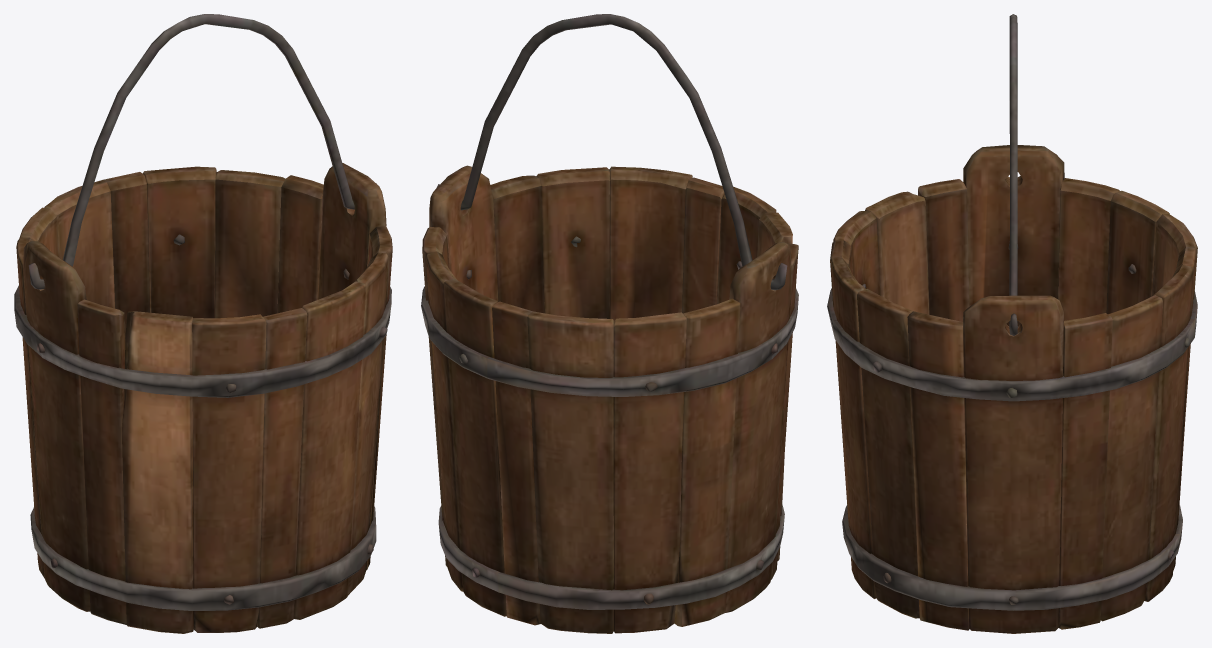
The model's file is wooden_bucket_01.glb.
3 renders of one model, left to right at view 1: azimuth 30°, elevation 25°; view 2: azimuth 150°, elevation 25°; view 3: azimuth 270°, elevation 25°, orthographic.
Visible parts, largest first — view 1: wooden_bucket_01; view 2: wooden_bucket_01; view 3: wooden_bucket_01.
Part boxes in pixels (x1,y1,x2,y2): wooden_bucket_01: (14, 14, 392, 633); wooden_bucket_01: (421, 14, 798, 633); wooden_bucket_01: (827, 14, 1197, 633).
Bounding box in the file's own units: 0.3663 × 0.5499 × 0.3419.
Materials: 1 (1 with a texture image).
